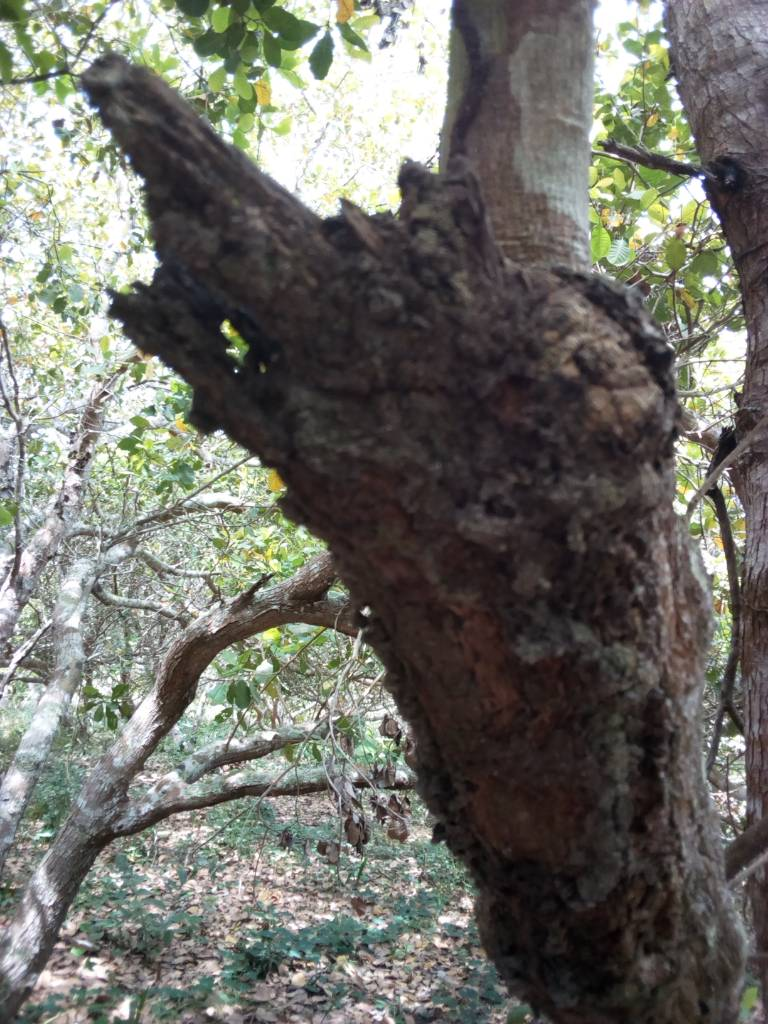Termites: (333, 230, 718, 978)
